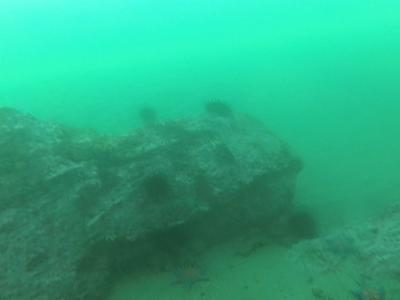urchin: (143, 175, 171, 202), (208, 98, 238, 121), (294, 215, 320, 237)
